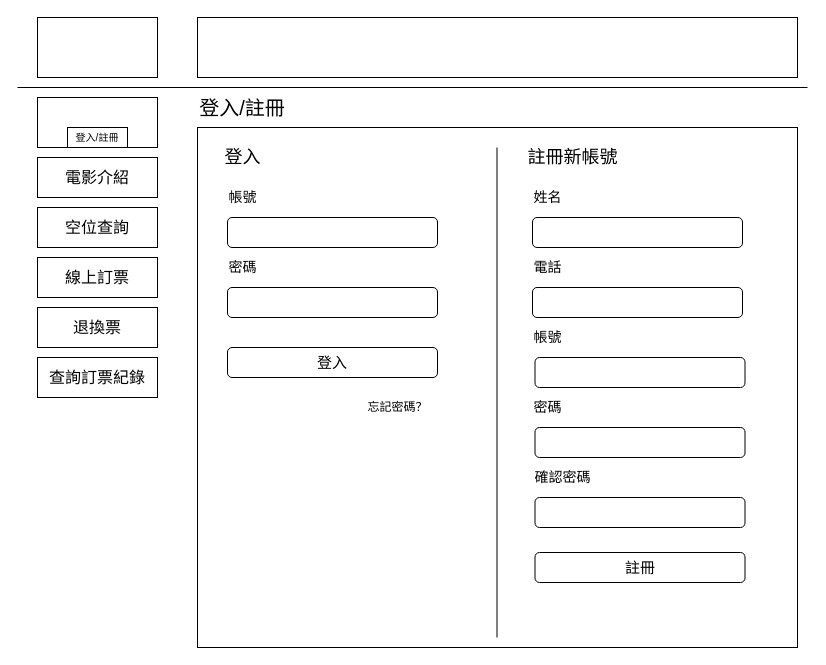
The diagram is 826 pixels wide and 665 high, and some of its shapes have lost their labels. Here are the shapes that lost their labels. From the top down, the box of each, then its label:
(36, 16, 158, 78): 電影院 訂票系統
(196, 16, 798, 78): 影城名稱
(36, 96, 158, 148): 尚未登入
